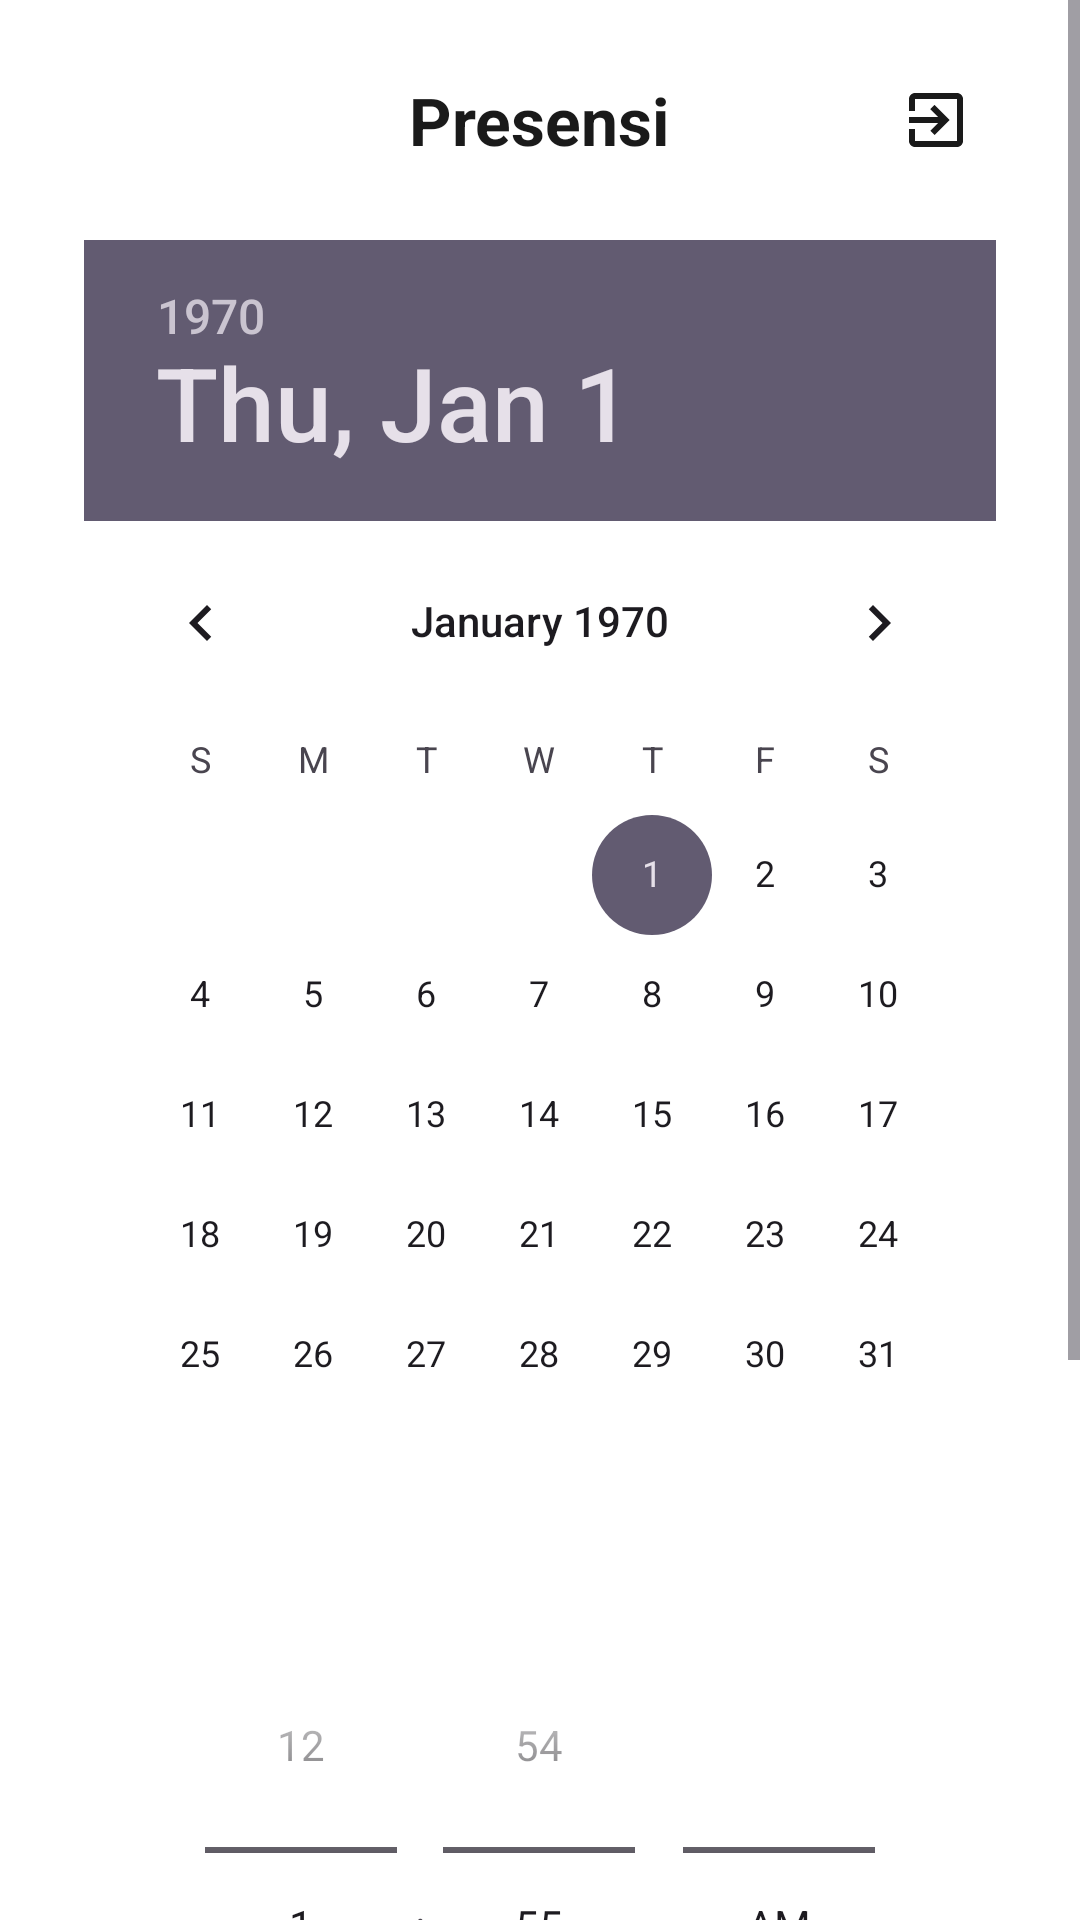

Named icons in this screenshot (1080px x 1920px) and their centers, (x=x, y=y):
Keluar: (x=936, y=120)
